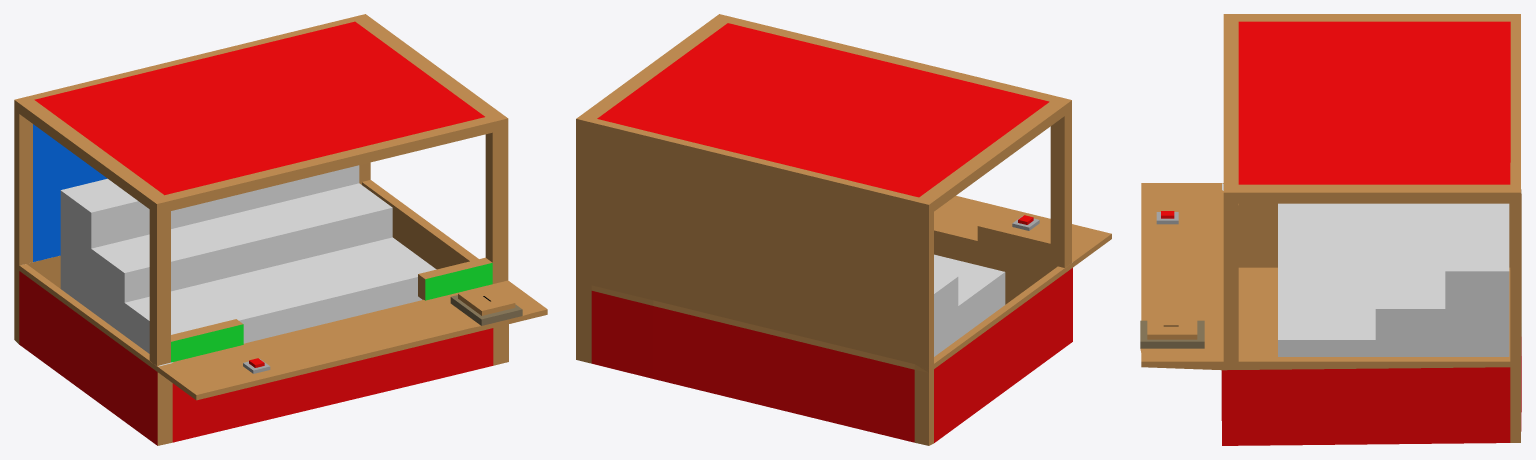
File: Carpa.fbx
3 renders of one model, left to right at view 1: azimuth 30°, elevation 25°; view 2: azimuth 150°, elevation 25°; view 3: azimuth 270°, elevation 25°, orthographic. The views are drawn at different scales.
Visible parts, largest first — view 1: Carpa; view 2: Carpa; view 3: Carpa.
Boxes of the visible parts, bbox=[...] form: Carpa: bbox=[14, 14, 547, 445]; Carpa: bbox=[576, 14, 1111, 445]; Carpa: bbox=[1140, 14, 1521, 445].
Bounding box in the file's own units: 1805 × 1193 × 1628.
